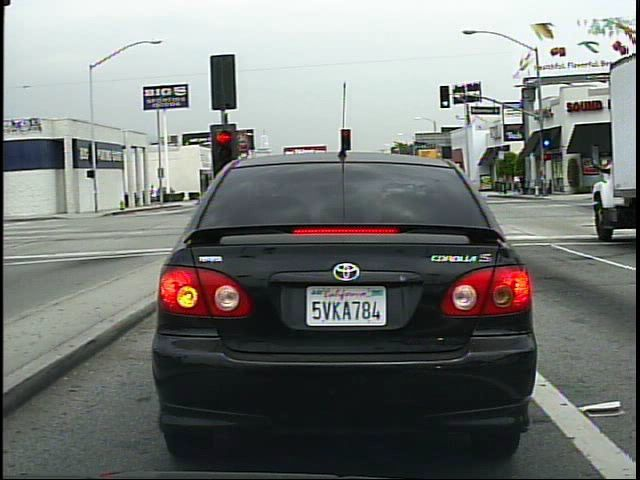person: (517, 171, 529, 197), (148, 181, 159, 209)
